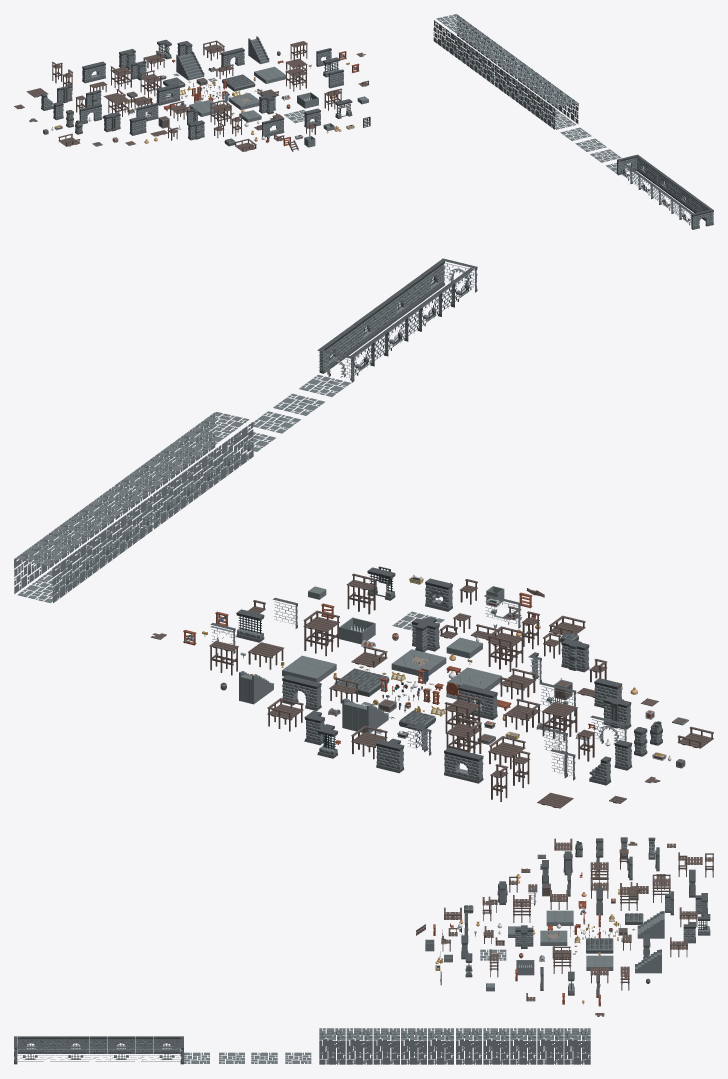
Rendered from medieval-scene-1.glb.
The picture shows the model from 3 angles, top to bottom: view 1: azimuth 30°, elevation 25°; view 2: azimuth 150°, elevation 25°; view 3: azimuth 270°, elevation 25°; orthographic projection. The views are drawn at different scales.
Parts seen in each view (by area): view 1: stairs_wide, wall_windowGate, wall_window, scaffold_high_cornerBoth, stairs, tileBrickB_large, tileBrickB_largeCrackedB, scaffold_high_cornerLeft, scaffold_high_railing, tileBrickA_large, wall_door, scaffold_high_cornerRight; view 2: stairs_wide, wall_window, scaffold_high_cornerBoth, scaffold_high_cornerLeft, wall_door, tileBrickB_largeCrackedB, tileBrickB_large, scaffold_high_cornerRight, wallIntersection, scaffold_high, wall_windowGate, wallSplit (+1 smaller); view 3: floorDecoration_tilesLarge.014, floorDecoration_tilesLarge.016, floorDecoration_tilesLarge.015, floorDecoration_tilesLarge.021, floorDecoration_tilesLarge.020, floorDecoration_tilesLarge.018, floorDecoration_tilesLarge.019, floorDecoration_tilesLarge.013, floorDecoration_tilesLarge.012, stairs_wide, floorDecoration_tilesLarge.017, stairs (+9 smaller).
Boxes of the visible parts, box(x1,y1,x2,y2) form: stairs_wide: box(176, 51, 204, 80); wall_windowGate: box(156, 84, 180, 105); wall_window: box(82, 61, 105, 83); scaffold_high_cornerBoth: box(210, 100, 231, 126); stairs: box(248, 36, 269, 64); tileBrickB_large: box(254, 66, 285, 83); tileBrickB_largeCrackedB: box(228, 93, 259, 109); scaffold_high_cornerLeft: box(285, 64, 307, 91); scaffold_high_railing: box(140, 70, 161, 97); tileBrickA_large: box(222, 74, 255, 91); wall_door: box(221, 47, 244, 66); scaffold_high_cornerRight: box(110, 66, 132, 89); stairs_wide: box(342, 698, 388, 732); wall_window: box(444, 747, 483, 783); scaffold_high_cornerBoth: box(488, 626, 524, 671); scaffold_high_cornerLeft: box(303, 610, 339, 656); wall_door: box(282, 675, 321, 710); tileBrickB_largeCrackedB: box(391, 649, 446, 676); tileBrickB_large: box(282, 655, 336, 682); scaffold_high_cornerRight: box(446, 717, 481, 753); wallIntersection: box(412, 617, 439, 652); scaffold_high: box(541, 702, 577, 741); wall_windowGate: box(458, 684, 497, 720); wallSplit: box(376, 738, 404, 773); floorDecoration_tilesLarge.014: box(373, 1041, 399, 1064); floorDecoration_tilesLarge.016: box(319, 1041, 345, 1064); floorDecoration_tilesLarge.015: box(346, 1041, 372, 1064); floorDecoration_tilesLarge.021: box(564, 1041, 590, 1064); floorDecoration_tilesLarge.020: box(537, 1041, 563, 1064); floorDecoration_tilesLarge.018: box(483, 1041, 509, 1064); floorDecoration_tilesLarge.019: box(510, 1041, 536, 1064); floorDecoration_tilesLarge.013: box(401, 1041, 426, 1064); floorDecoration_tilesLarge.012: box(428, 1041, 453, 1064); stairs_wide: box(637, 911, 664, 938); floorDecoration_tilesLarge.017: box(456, 1041, 481, 1064); stairs: box(635, 949, 661, 973).
Bounding box in the file's own units: 117 × 7.15 × 155.
